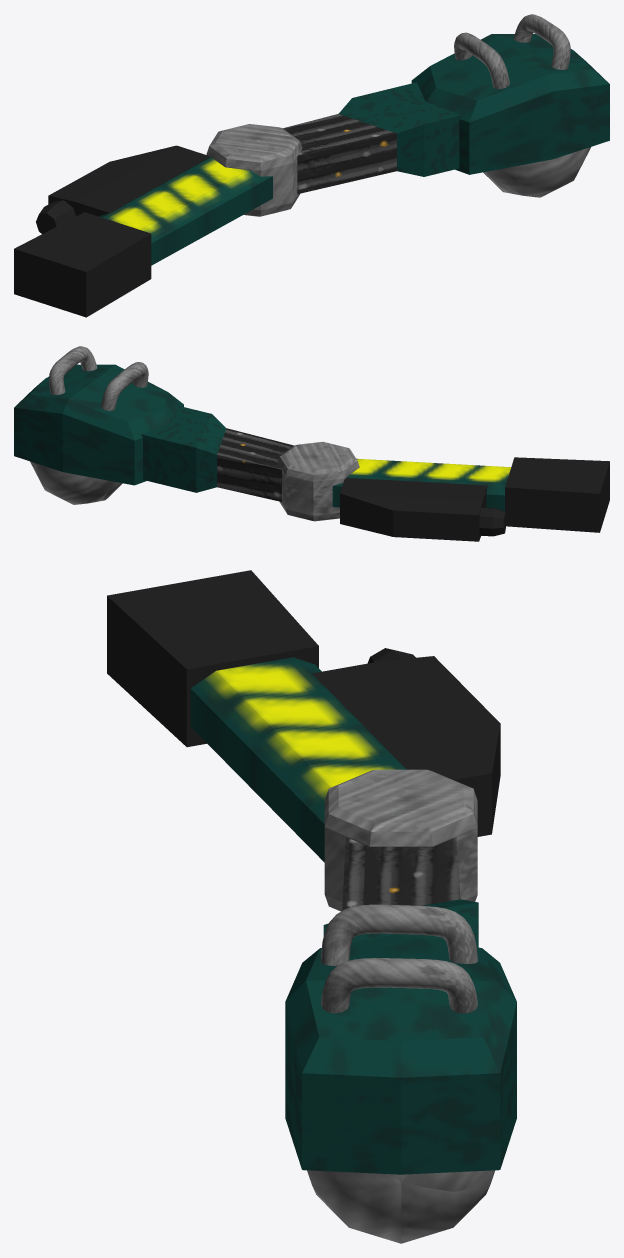
File: Robot 7 R arm .fbx
3 views of the same model, one above another, from view 1: azimuth 30°, elevation 25°; view 2: azimuth 150°, elevation 25°; view 3: azimuth 270°, elevation 25° (orthographic). The views are drawn at different scales.
Parts seen in each view (by area): view 1: Icosphere.004, Cylinder, Cube.017; view 2: Icosphere.004, Cylinder, Cube.017; view 3: Icosphere.004, Cylinder, Cube.017.
Part boxes in pixels (x1,y1,x2,y2): Icosphere.004: (283, 14, 609, 197); Cylinder: (36, 124, 302, 265); Cube.017: (14, 212, 151, 317); Icosphere.004: (14, 346, 293, 504); Cylinder: (277, 441, 510, 541); Cube.017: (505, 457, 609, 532); Icosphere.004: (285, 837, 516, 1243); Cylinder: (190, 648, 500, 911); Cube.017: (107, 570, 318, 747).
Bounding box in the file's own units: 537 × 137 × 180.
